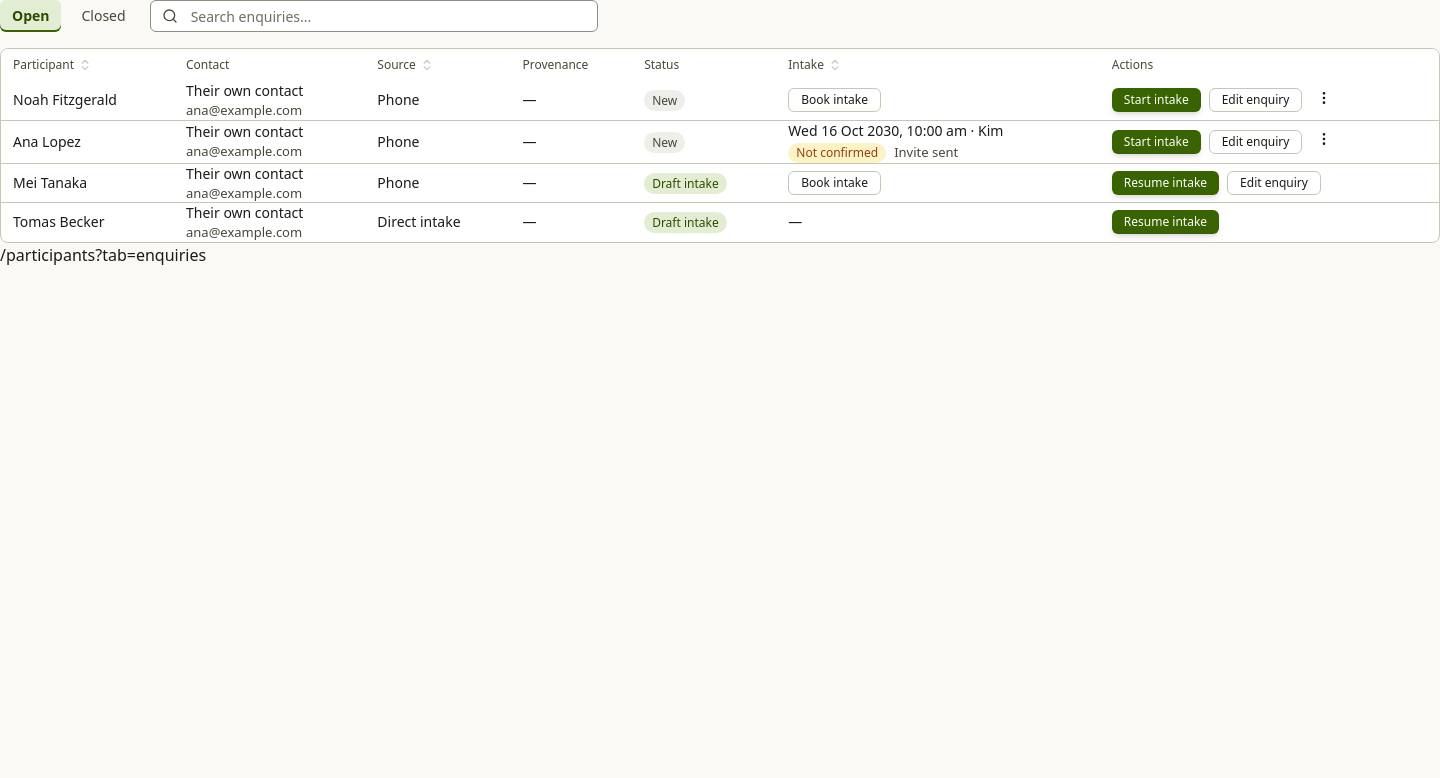
Scenario: the closed list bound › a search with no match says it only looked through the cut list
Click the radio button labelled "Closed": [104, 16] box [70,0,138,32]
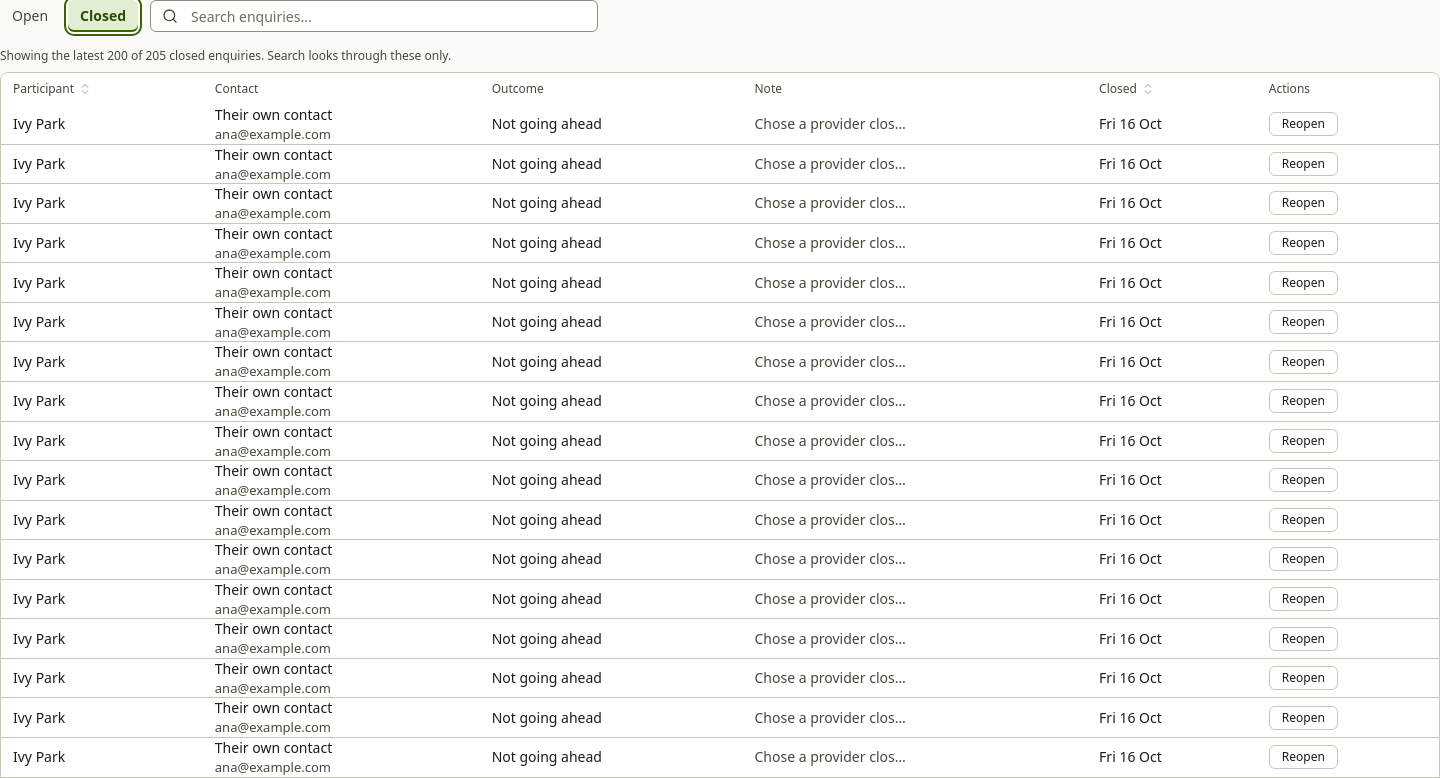
In the field with placeholder "Search enquiries...": [374, 16] box [150,0,598,32], type "nobody matches this"
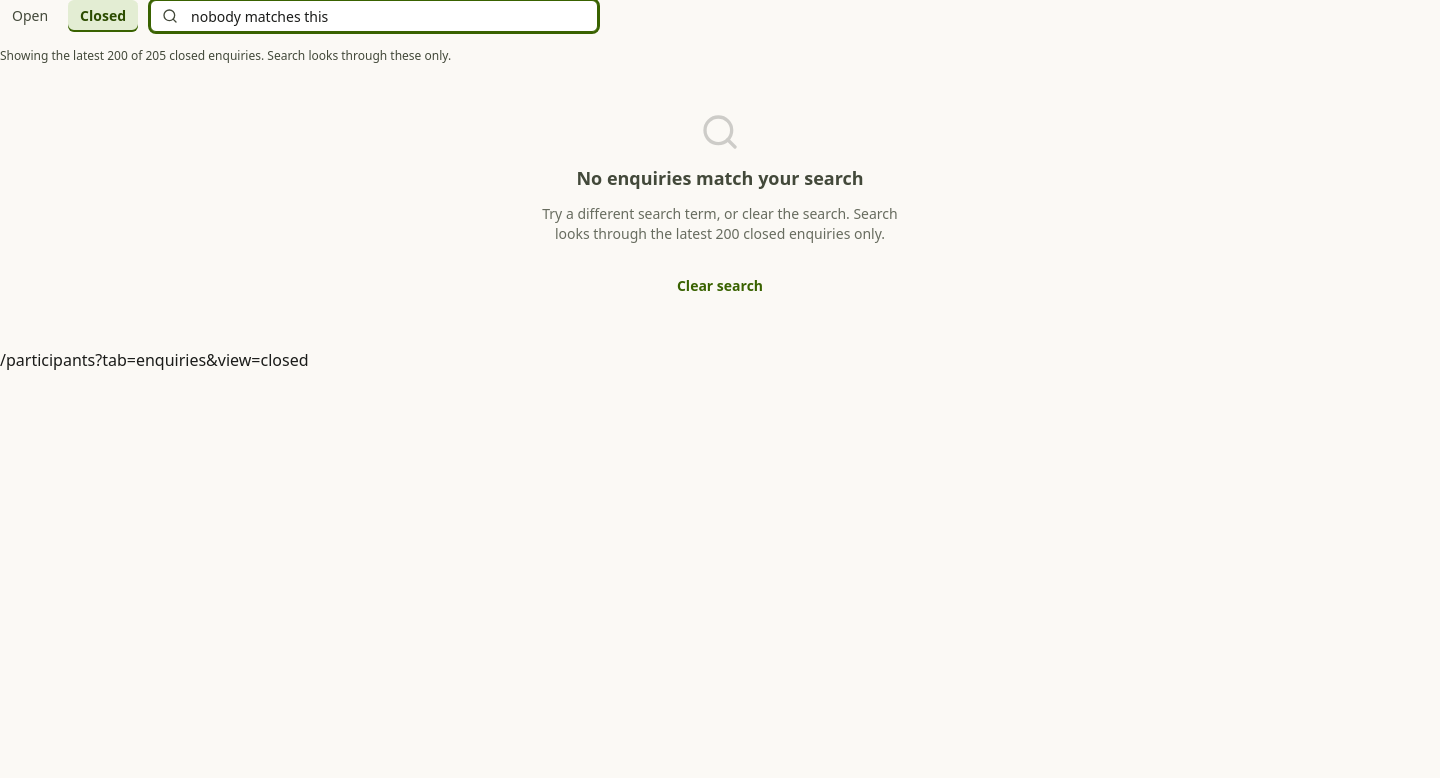
Expected: the text "Try a different search term, or clear the search. Search looks through the latest 200 closed enquiries only." is shown, [542,204,898,243]
Expected: the button "Clear search" is shown, [669,264,771,308]
